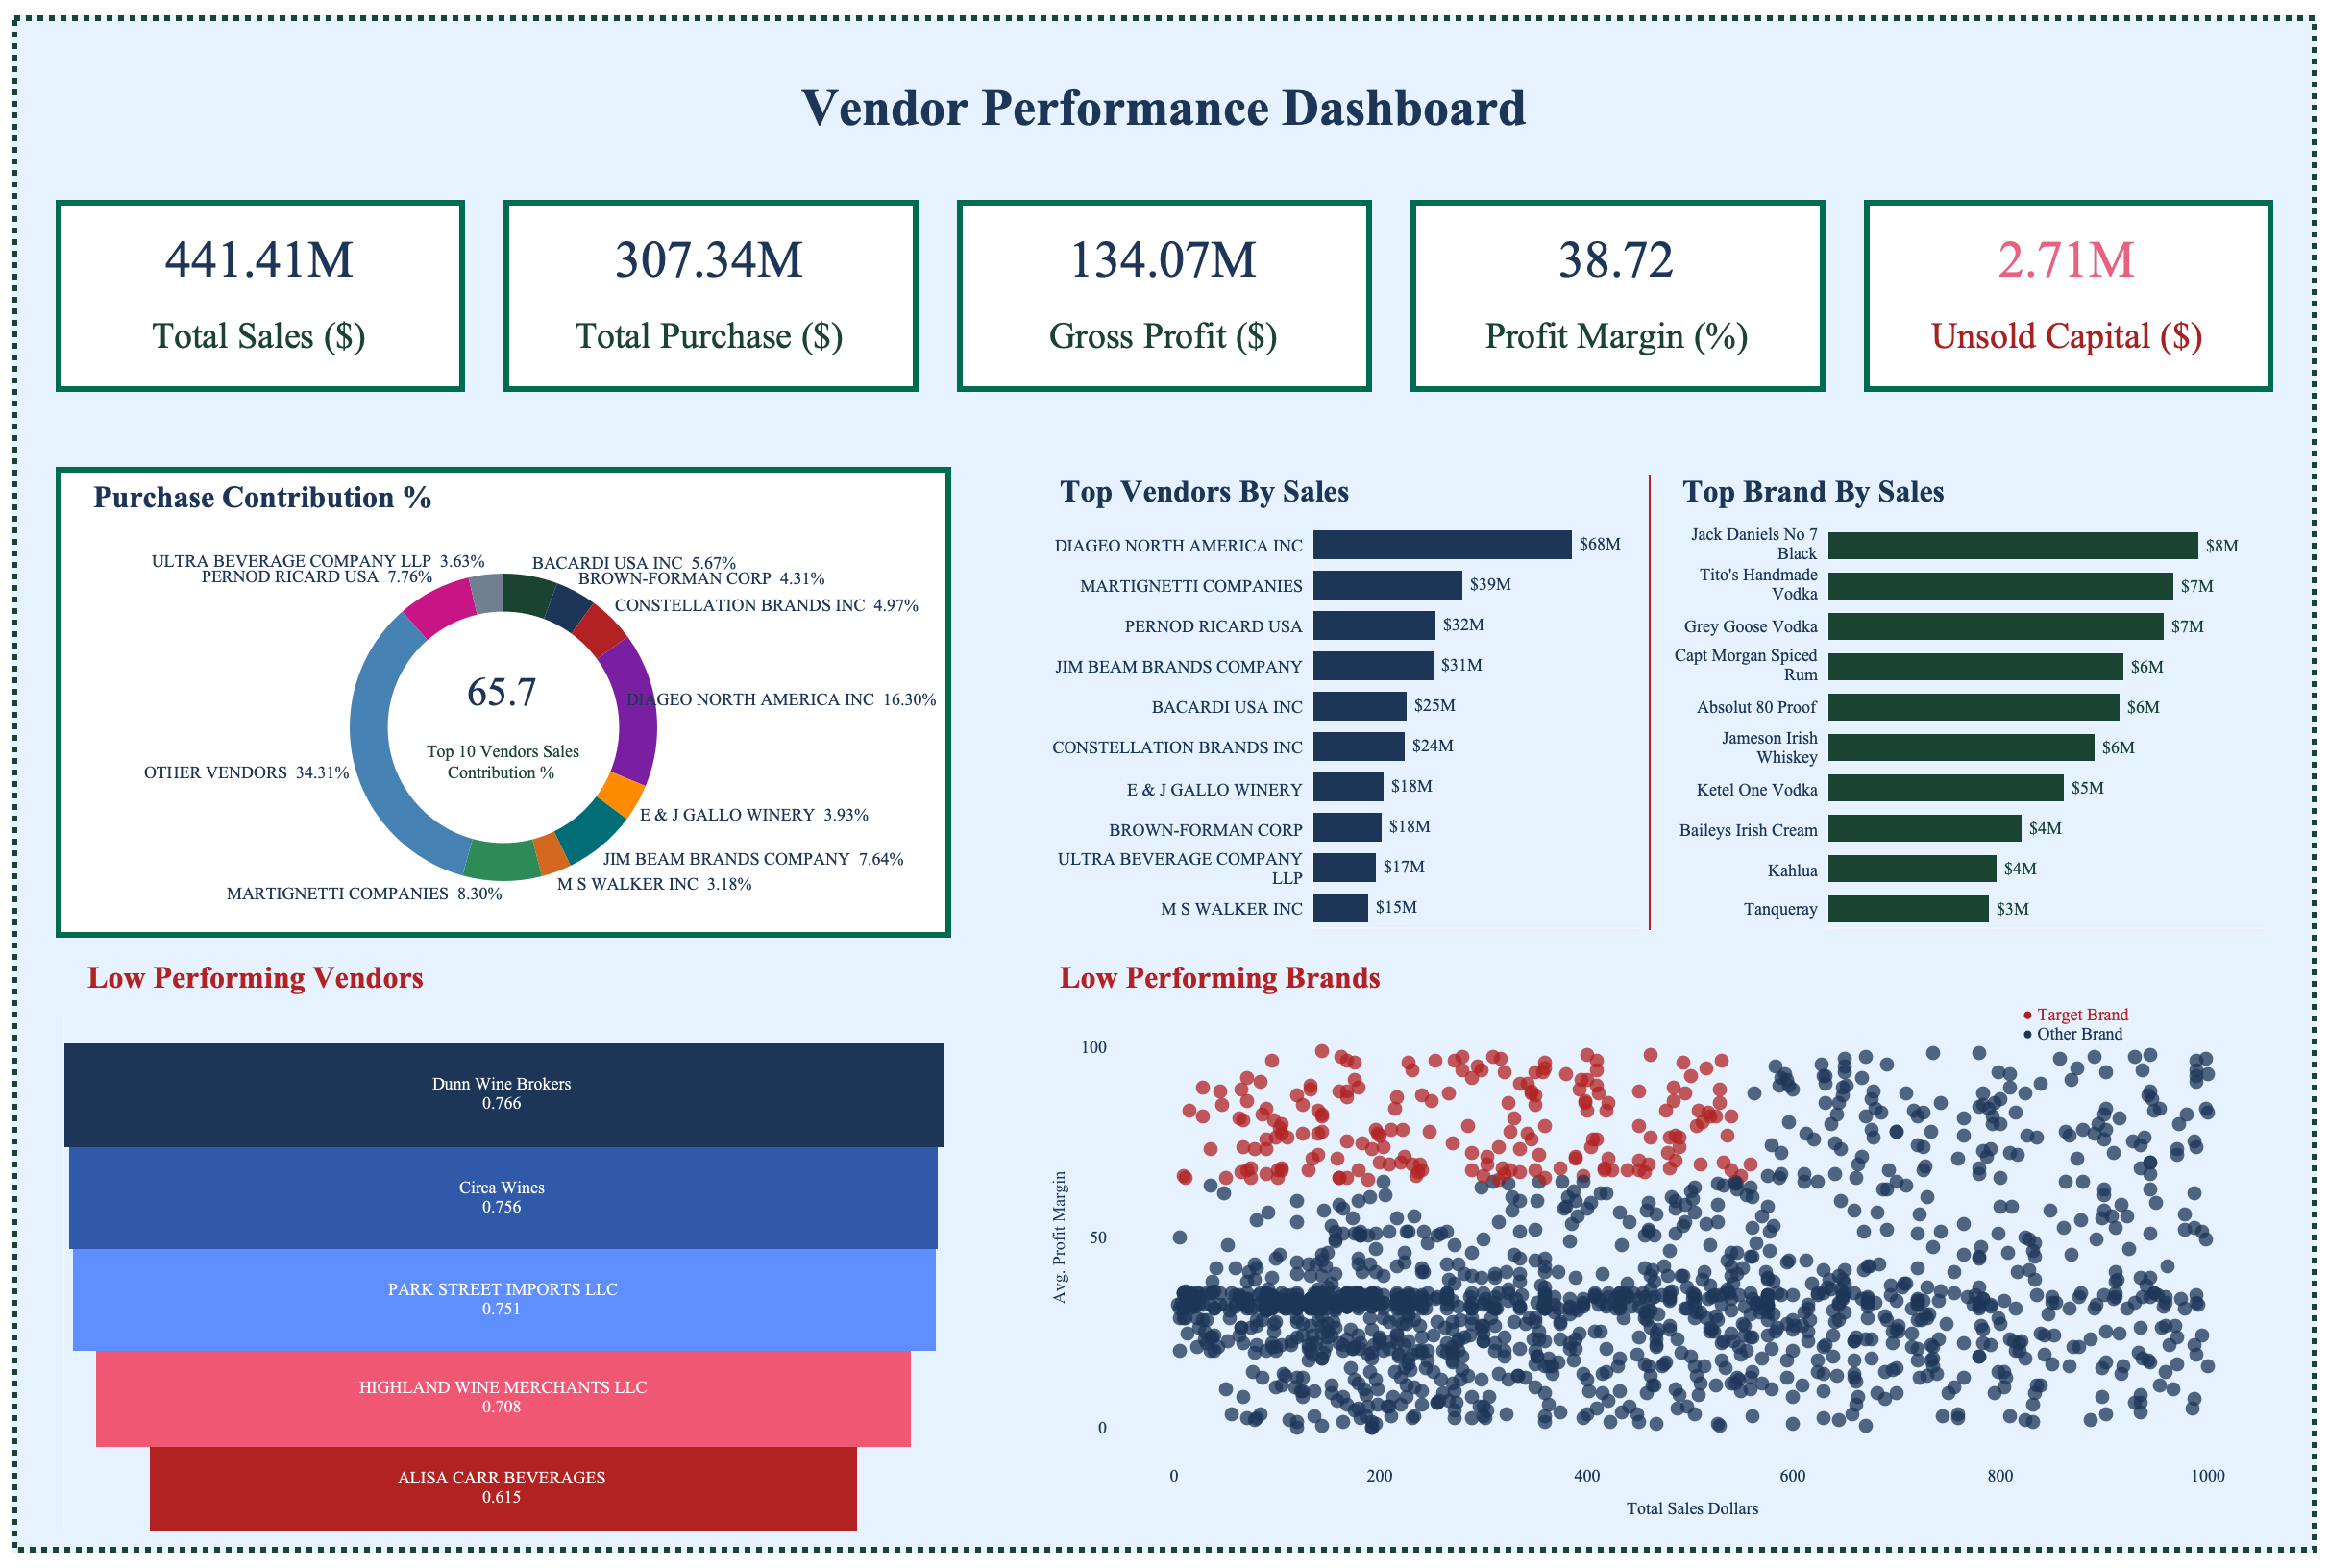

What the dashboard file says about the page in this screenshot:
{"tool":"tableau","page":{"name":"Vendor Summary Dashboard","canvas":[1200,800],"ordinal":0},"visuals":[{"type":"text","box":[3,3,1194,89]},{"type":"worksheet","title":"total_sales_card","mark":"Automatic","box":[3,92,243,108]},{"type":"worksheet","title":"total_purchase_card","mark":"Automatic","box":[246,92,236,108]},{"type":"worksheet","title":"gross_profit_card","mark":"Automatic","box":[482,92,236,108]},{"type":"worksheet","title":"profit_margin_card","mark":"Automatic","box":[718,92,236,108]},{"type":"worksheet","title":"unsold_capital_card","mark":"Automatic","box":[954,92,243,108]},{"type":"blank","box":[3,200,1194,35]},{"type":"text","box":[529,235,323.5,26]},{"type":"blank","box":[852.5,235,1,245]},{"type":"text","box":[853.5,235,323.5,26]},{"type":"text","box":[26,238,460,26]},{"type":"worksheet","title":"top_vendor","mark":"Bar","rows":["vendorname"],"cols":["total_sales_dollars"],"box":[529,261,323.5,219]},{"type":"worksheet","title":"top_brands","mark":"Bar","rows":["description"],"cols":["total_sales_dollars"],"box":[853.5,261,323.5,219]},{"type":"worksheet","title":"purachase_contribution","mark":"Pie","cols":["Calculation_6471954196164669453","Calculation_6471954196164669453"],"box":[26,264,460,213]},{"type":"text","box":[23,480,466,42]},{"type":"text","box":[529,480,648,42]},{"type":"text","box":[1044,510,100,30]},{"type":"worksheet","title":"bottom_vendors","mark":"Automatic","rows":["Calculation_6471954196404461598"],"box":[23,522,466,271]},{"type":"worksheet","title":"bottom_brands","mark":"Circle","rows":["profit_margin"],"cols":["total_sales_dollars"],"box":[529,522,648,271]}]}

Visuals, with their boxes in screenshot pixels (x1, y1, x2, y2), scaled from the page's 1200x800 canvas onto the 2329x1568 screenshot:
text: bbox=[6, 6, 2323, 181]
"total_sales_card" worksheet: bbox=[6, 181, 478, 392]
"total_purchase_card" worksheet: bbox=[478, 181, 936, 392]
"gross_profit_card" worksheet: bbox=[936, 181, 1393, 392]
"profit_margin_card" worksheet: bbox=[1393, 181, 1851, 392]
"unsold_capital_card" worksheet: bbox=[1851, 181, 2323, 392]
blank: bbox=[6, 392, 2323, 460]
text: bbox=[1027, 460, 1655, 511]
blank: bbox=[1655, 460, 1656, 941]
text: bbox=[1656, 460, 2285, 511]
text: bbox=[51, 467, 944, 518]
"top_vendor" worksheet (Bar marks): bbox=[1027, 511, 1655, 941]
"top_brands" worksheet (Bar marks): bbox=[1656, 511, 2285, 941]
"purachase_contribution" worksheet (Pie marks): bbox=[51, 518, 944, 935]
text: bbox=[44, 941, 949, 1023]
text: bbox=[1027, 941, 2285, 1023]
text: bbox=[2026, 999, 2220, 1059]
"bottom_vendors" worksheet: bbox=[44, 1023, 949, 1555]
"bottom_brands" worksheet (Circle marks): bbox=[1027, 1023, 2285, 1555]
